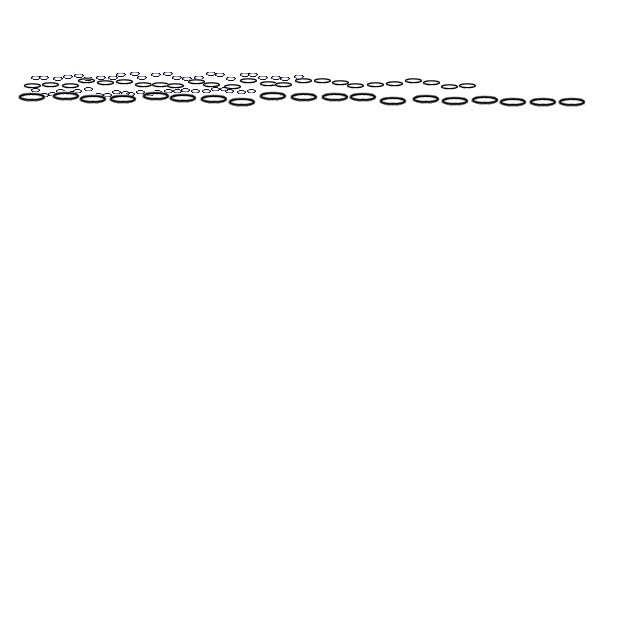chain: (50, 90, 82, 104), (140, 90, 172, 104), (167, 92, 199, 106), (226, 96, 258, 110), (257, 90, 289, 104), (469, 94, 501, 108), (497, 96, 529, 110), (527, 96, 559, 110), (556, 96, 588, 110), (16, 92, 48, 104), (77, 94, 109, 106), (107, 94, 139, 106), (198, 94, 230, 106), (288, 92, 320, 104), (319, 92, 351, 104), (347, 92, 379, 104), (377, 96, 409, 108), (410, 94, 442, 106), (439, 96, 471, 108), (22, 82, 44, 90), (40, 81, 62, 89), (60, 82, 82, 90), (76, 77, 98, 85), (114, 78, 136, 86), (150, 81, 172, 89), (186, 78, 208, 86), (222, 83, 244, 91), (238, 77, 260, 85), (258, 80, 280, 88), (312, 77, 334, 85), (330, 79, 352, 87), (384, 80, 406, 88), (96, 79, 116, 87), (134, 81, 154, 89), (166, 82, 186, 90), (202, 81, 222, 89), (274, 81, 294, 89), (294, 77, 314, 85), (346, 82, 366, 90), (366, 81, 386, 89), (404, 77, 424, 85), (422, 79, 442, 87), (440, 83, 460, 91), (458, 82, 478, 90), (52, 74, 64, 84), (62, 72, 74, 82), (82, 74, 94, 84), (115, 70, 127, 80), (150, 70, 162, 80), (181, 74, 193, 84), (214, 70, 226, 80), (225, 74, 237, 84), (239, 70, 251, 80), (247, 70, 259, 80), (279, 74, 291, 84), (293, 72, 305, 82), (30, 74, 42, 82), (38, 74, 50, 82), (73, 72, 85, 80), (95, 74, 107, 82), (107, 74, 119, 82), (129, 70, 141, 78), (136, 74, 148, 82), (162, 70, 174, 78), (171, 74, 183, 82), (193, 74, 205, 82), (205, 70, 217, 78), (257, 74, 269, 82), (270, 74, 282, 82), (30, 86, 42, 94), (66, 89, 78, 97), (72, 87, 84, 95), (102, 91, 114, 99), (120, 89, 132, 97), (144, 90, 156, 98), (152, 88, 164, 96), (172, 87, 184, 95), (180, 86, 192, 94), (190, 87, 202, 95), (210, 85, 222, 93), (224, 87, 236, 95), (236, 88, 248, 96), (246, 87, 258, 95), (40, 91, 50, 99), (48, 90, 58, 98), (56, 87, 66, 95), (84, 85, 94, 93), (94, 91, 104, 99), (112, 88, 122, 96), (126, 90, 136, 98), (136, 88, 146, 96), (164, 87, 174, 95), (202, 87, 212, 95), (220, 85, 230, 93)
